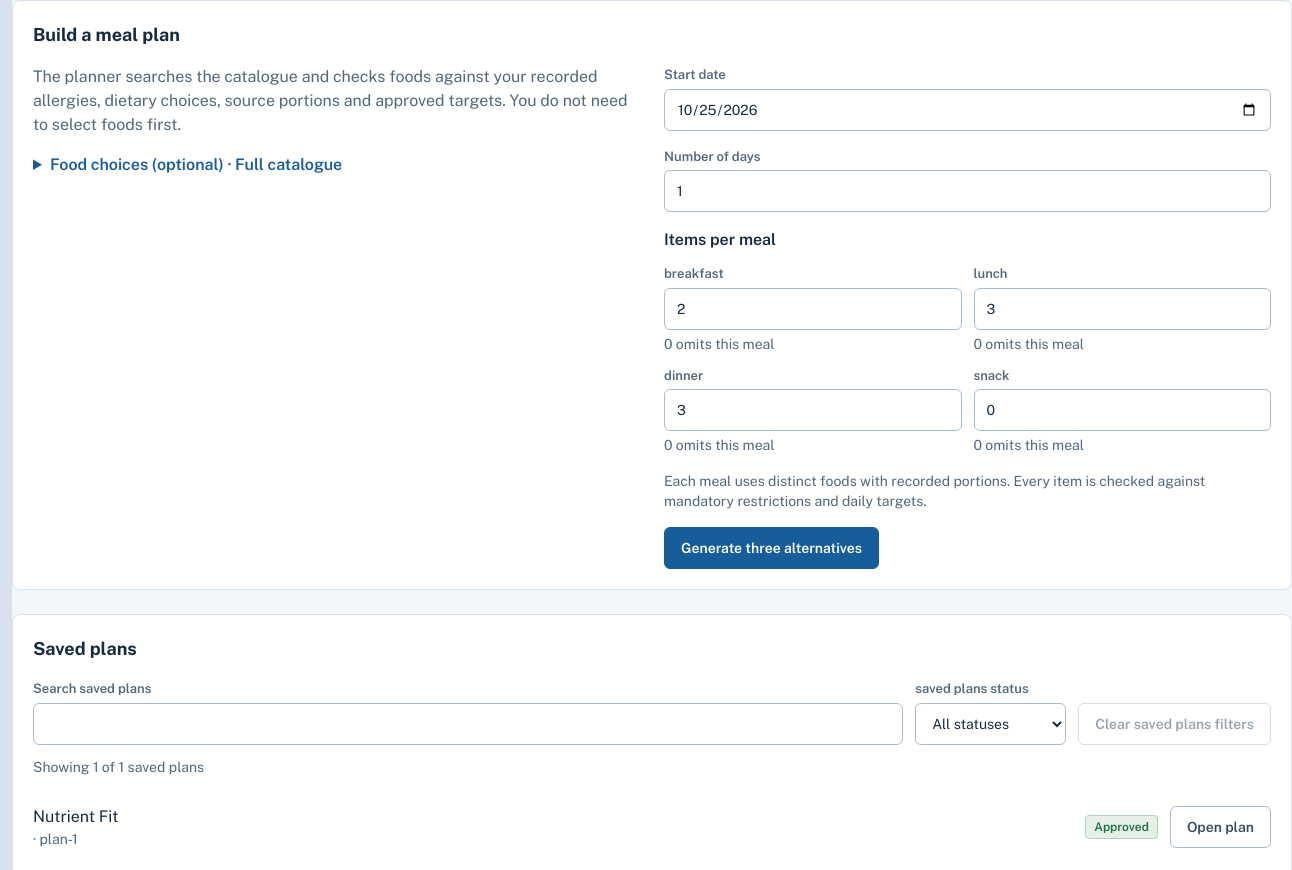
planning sends multi-item counts and exact approved target revision
Click the heading "Food choices (optional) · Full catalogue": [196, 164] box [50,155,342,174]
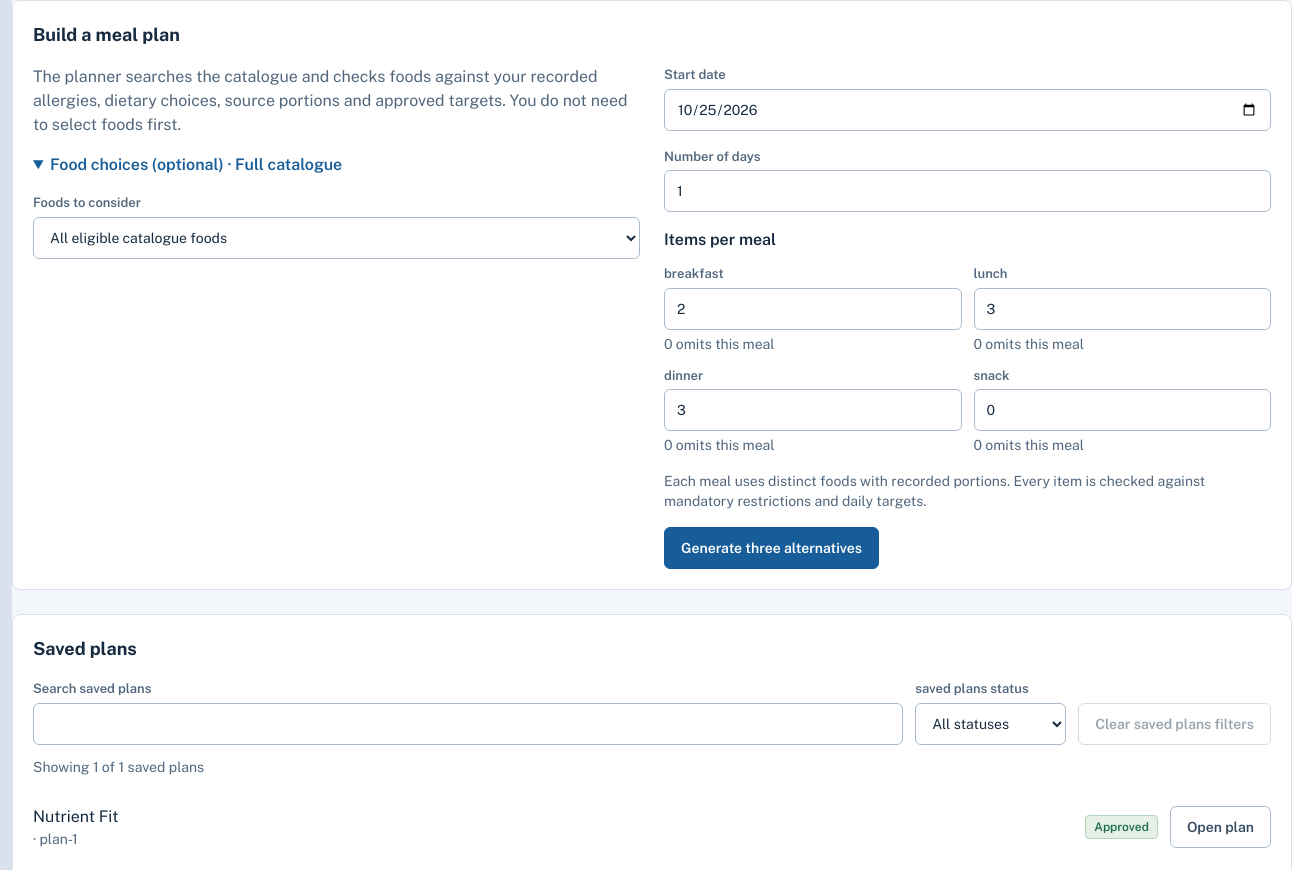
Select "Only foods I select" in the dropdown labelled "Foods to consider": [336, 238] box [33,216,640,258]
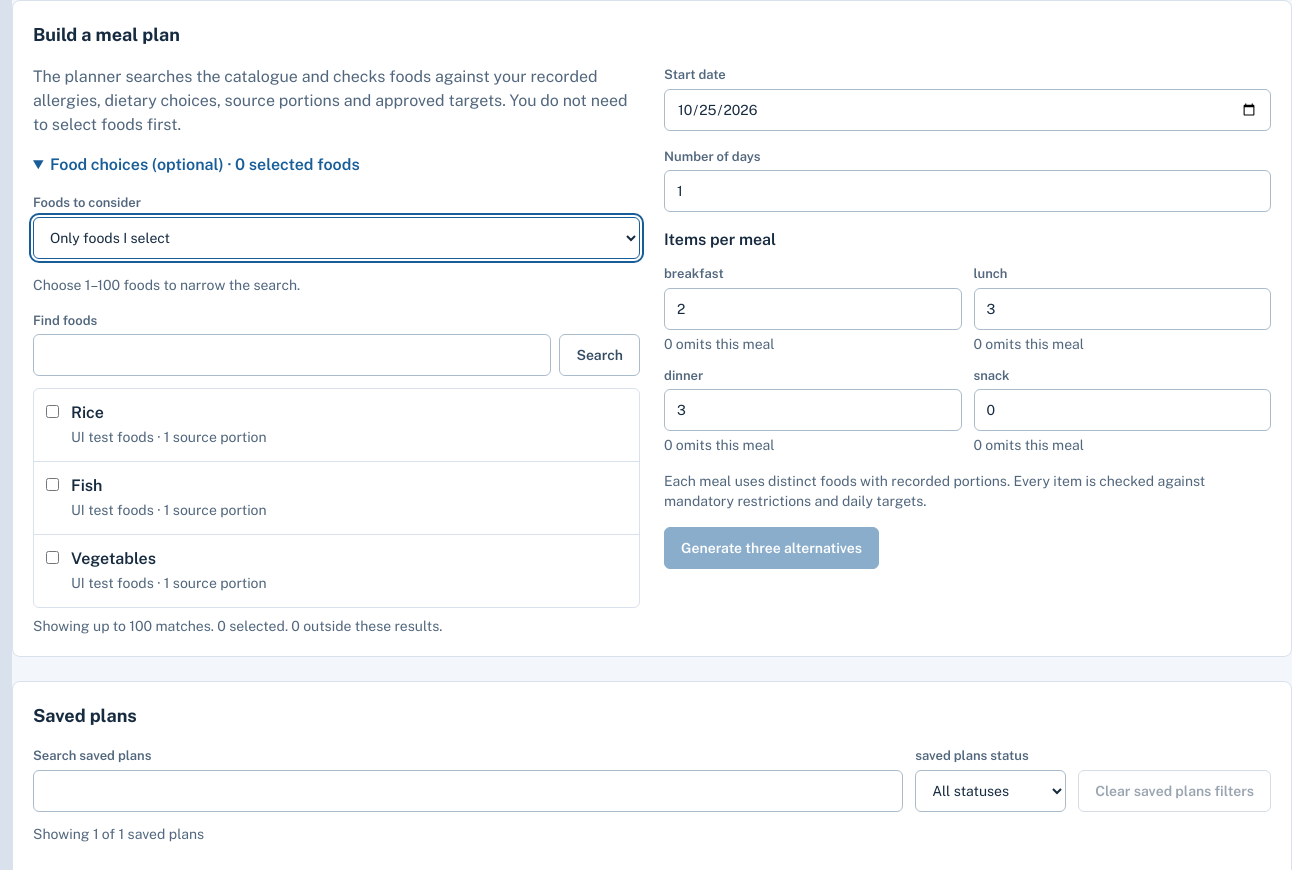
Click the checkbox labelled "Rice UI test foods · 1 source portion": [52, 412] box [46,405,59,418]
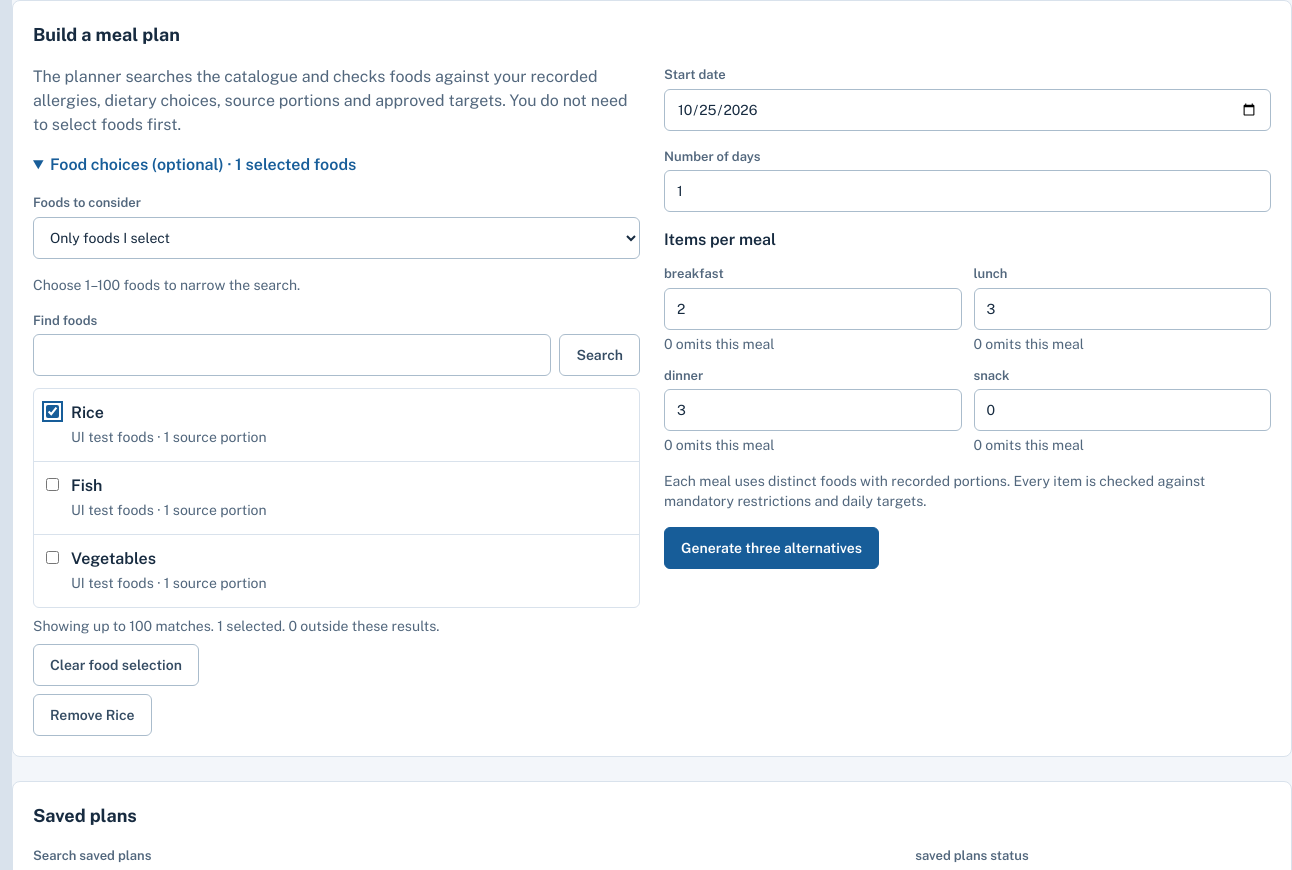
Click the checkbox labelled "Fish UI test foods · 1 source portion": [52, 484] box [46,478,59,491]
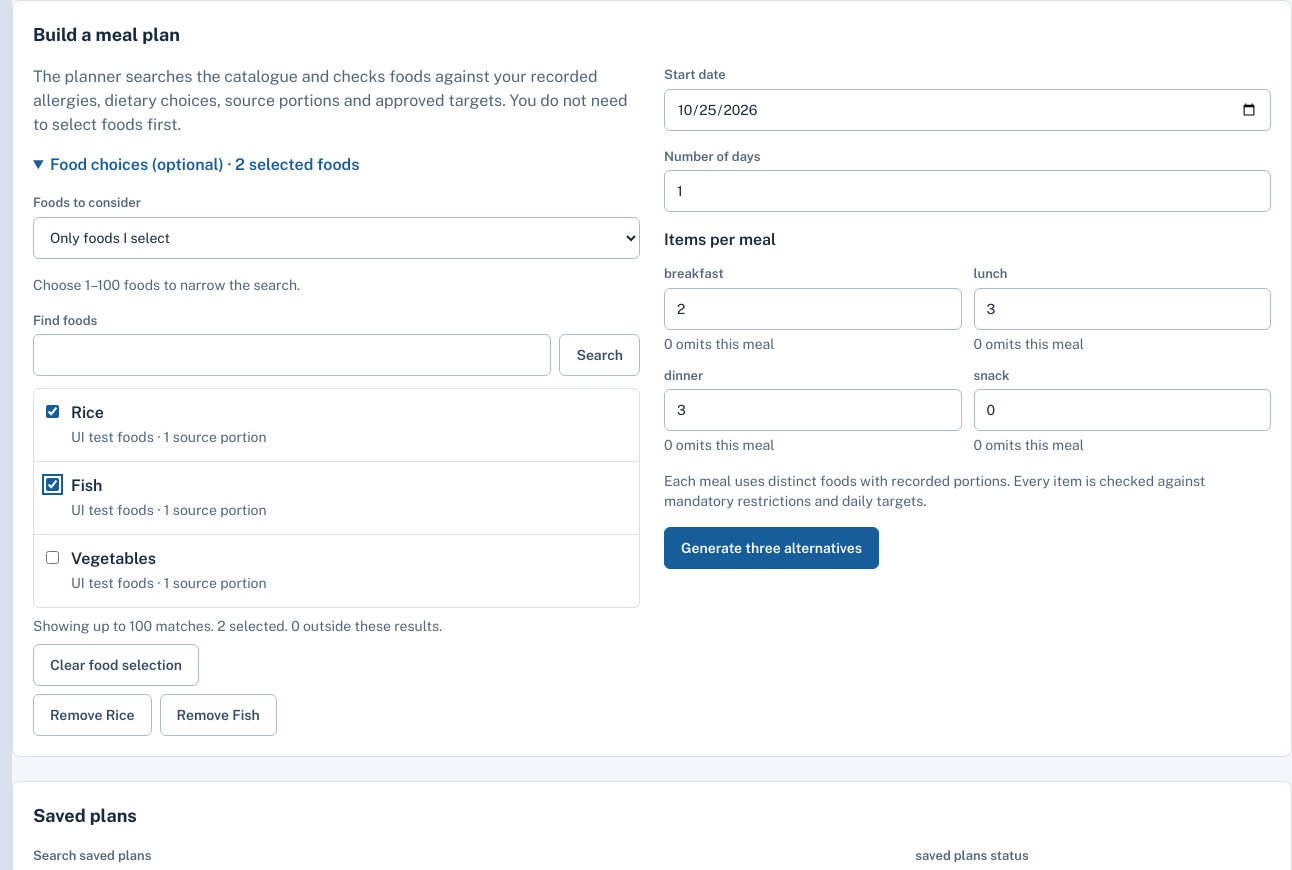
Click the checkbox labelled "Vegetables UI test foods · 1 source portion": [52, 558] box [46,551,59,564]
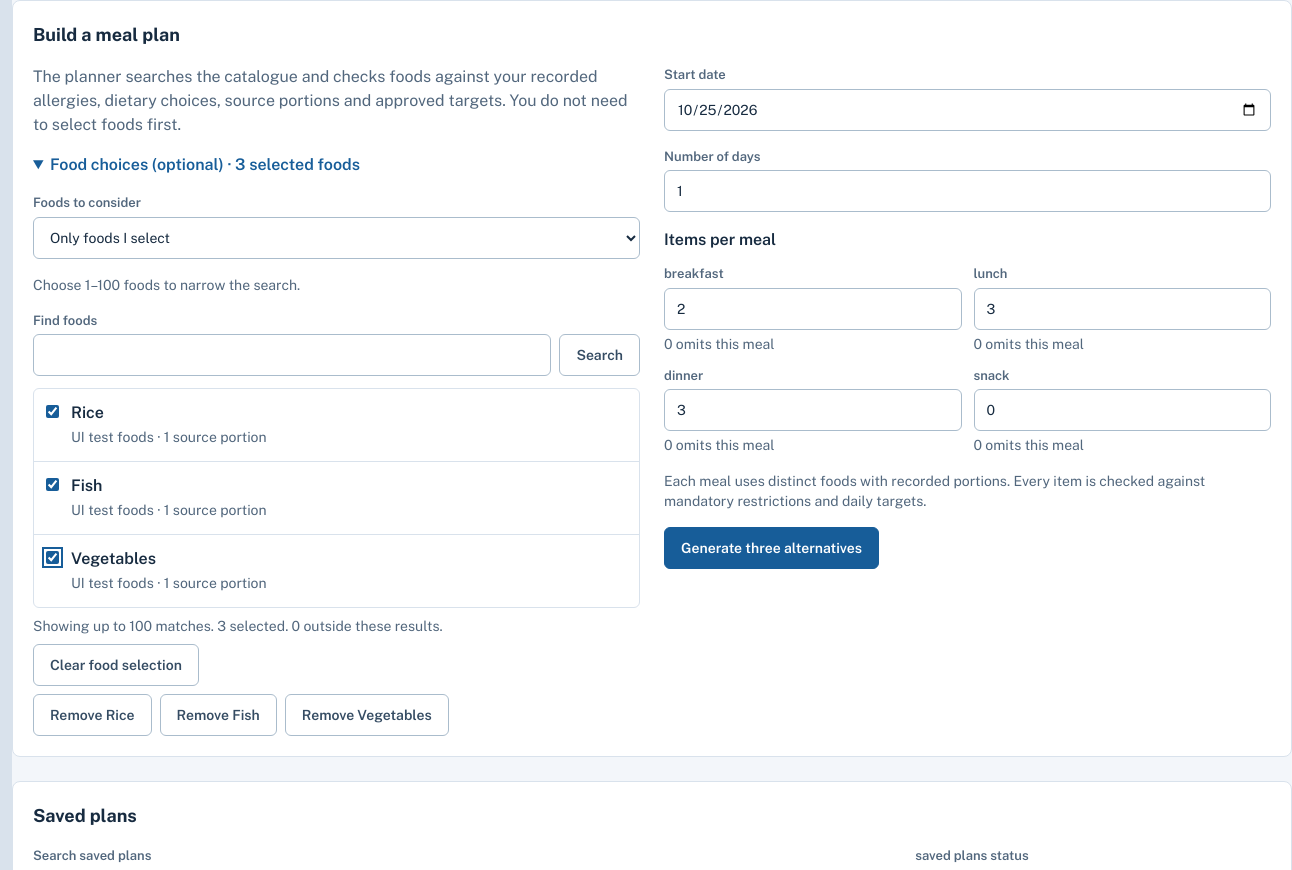
Click the button "Generate three alternatives": [772, 548] box [664,527,879,569]
(page scrolled)
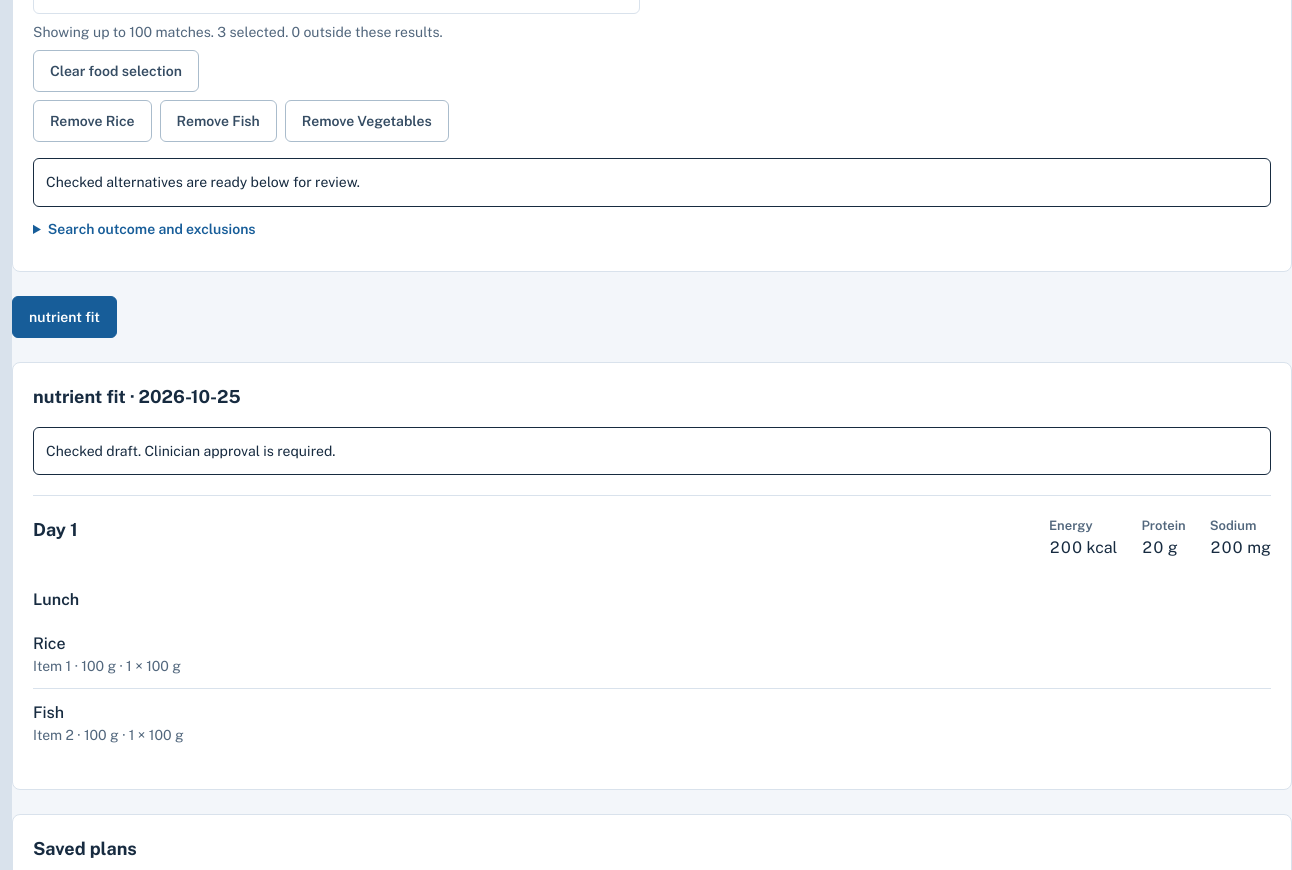
Expected: the text "Checked draft. Clinician approval is required." is shown, [33,427,1271,475]
